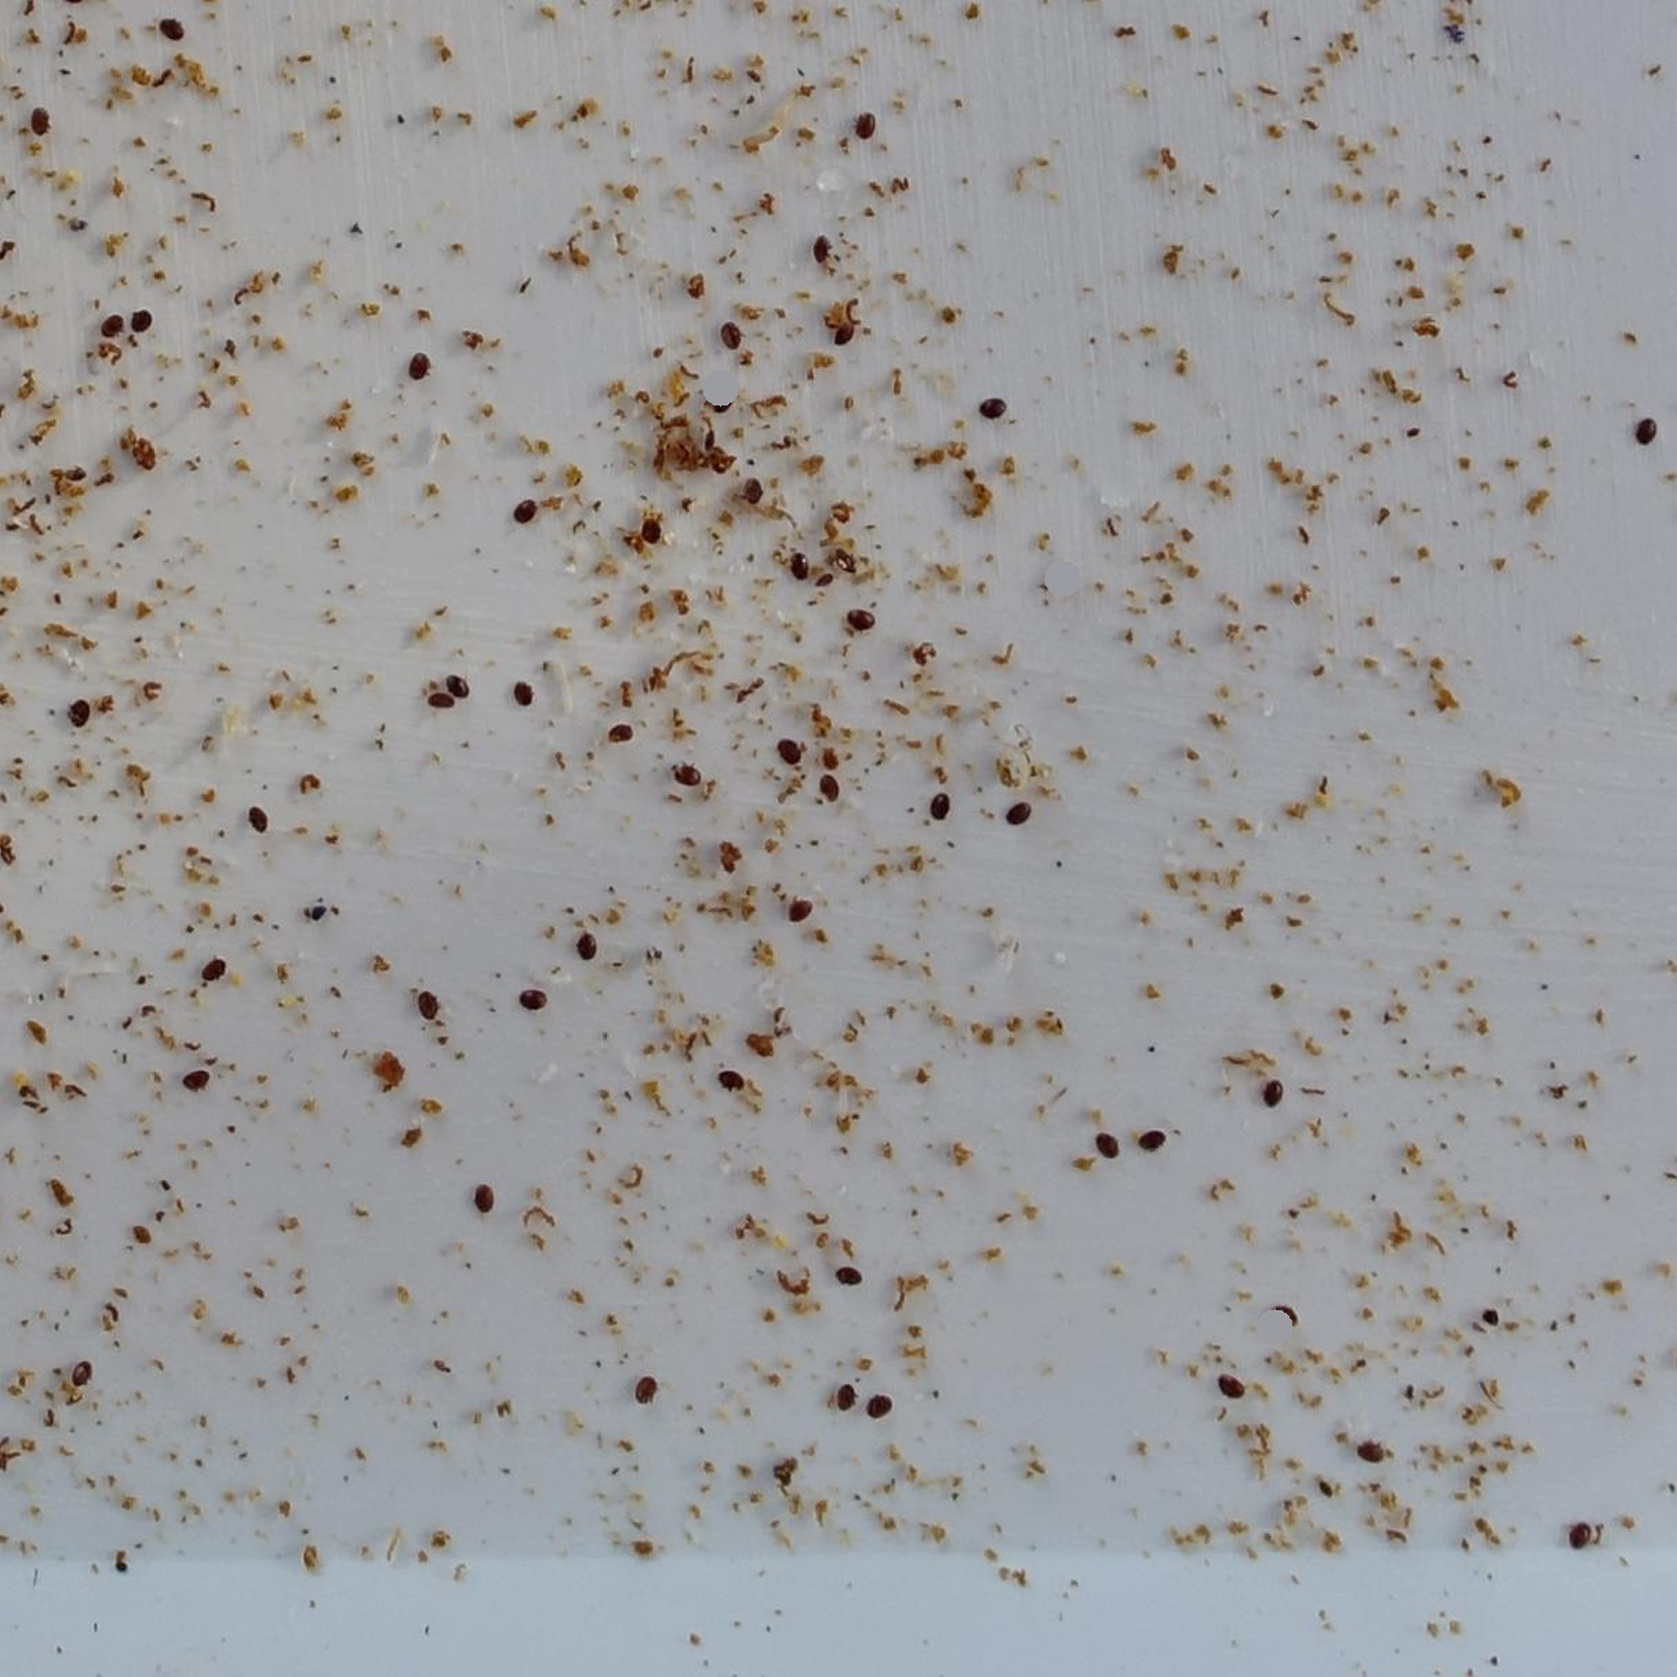Varroa: (731, 468, 774, 511), (823, 541, 866, 584), (977, 389, 1009, 422), (519, 984, 550, 1017), (703, 389, 736, 419), (636, 518, 666, 548), (183, 1067, 210, 1096), (670, 762, 699, 789), (435, 680, 462, 709), (68, 1356, 95, 1384), (931, 792, 957, 820), (1133, 1129, 1159, 1156), (577, 935, 604, 963), (811, 766, 837, 792), (244, 806, 270, 832), (413, 991, 439, 1017), (780, 556, 806, 582), (809, 238, 835, 264), (866, 1394, 892, 1421), (832, 1265, 858, 1292), (1272, 1299, 1298, 1325), (716, 1066, 742, 1092), (64, 699, 89, 726), (1637, 416, 1662, 444), (789, 897, 814, 925), (845, 604, 869, 630), (848, 114, 872, 140), (1566, 1525, 1591, 1551), (613, 717, 637, 743), (831, 1379, 855, 1405), (513, 496, 537, 522), (630, 1376, 656, 1401), (1262, 1084, 1287, 1110), (828, 313, 852, 339), (508, 683, 533, 709), (29, 112, 54, 138), (198, 958, 223, 983), (126, 309, 150, 333), (1356, 1440, 1381, 1465), (160, 18, 183, 45), (1219, 1373, 1242, 1399), (471, 1189, 495, 1213), (1093, 1132, 1116, 1156), (410, 355, 433, 378), (779, 742, 802, 765), (1006, 802, 1029, 825), (719, 324, 740, 347), (104, 312, 127, 333)
